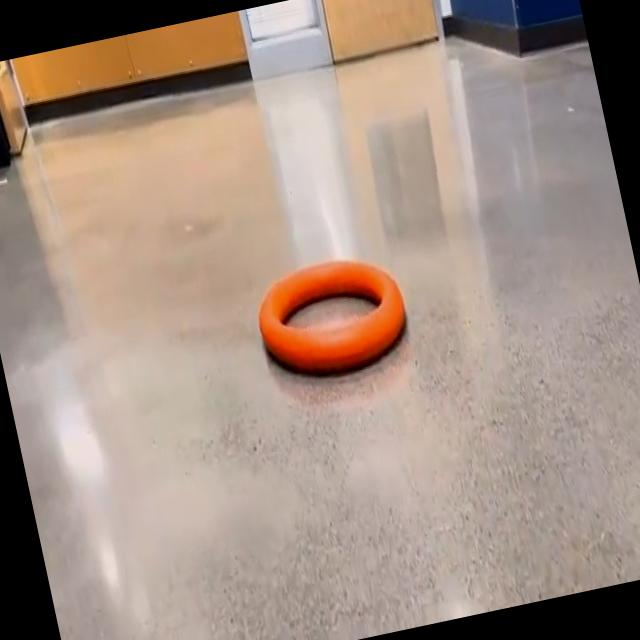note: (258, 260, 405, 373)
